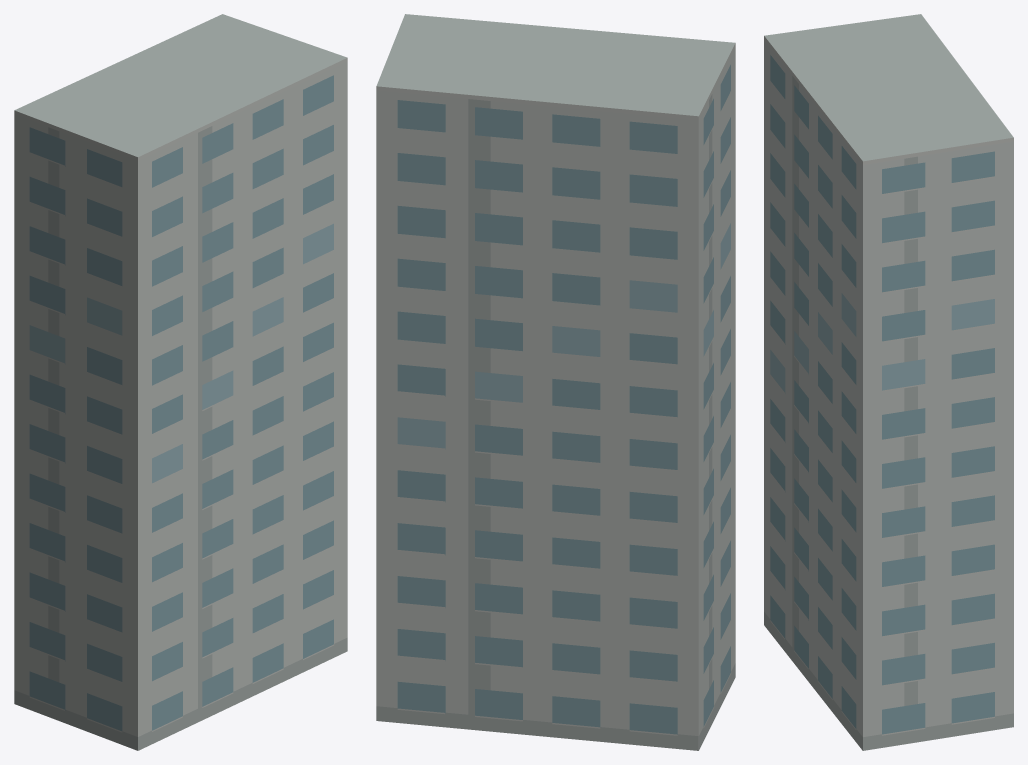
Rendered from survey-upis-32904606.glb.
The picture shows the model from 3 angles, left to right: view 1: azimuth 30°, elevation 25°; view 2: azimuth 150°, elevation 25°; view 3: azimuth 270°, elevation 25°; orthographic projection. The views are drawn at different scales.
Parts seen in each view (by area): view 1: survey-upis-32904606.tmp; view 2: survey-upis-32904606.tmp; view 3: survey-upis-32904606.tmp.
Boxes of the visible parts, left/top/right/bottom form: survey-upis-32904606.tmp: left=14, top=14, right=347, bottom=750; survey-upis-32904606.tmp: left=376, top=14, right=735, bottom=750; survey-upis-32904606.tmp: left=764, top=14, right=1013, bottom=750.
Bounding box in the file's own units: 19.87 × 37.05 × 14.23.
